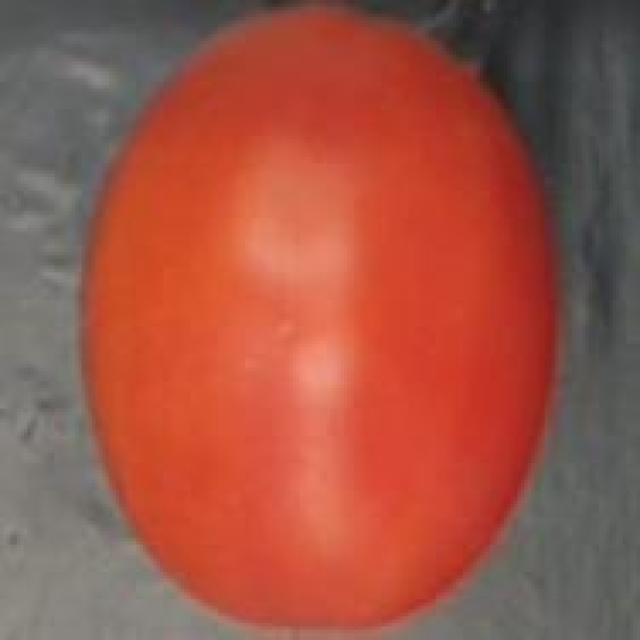ripe tomato: (65, 3, 575, 640)
